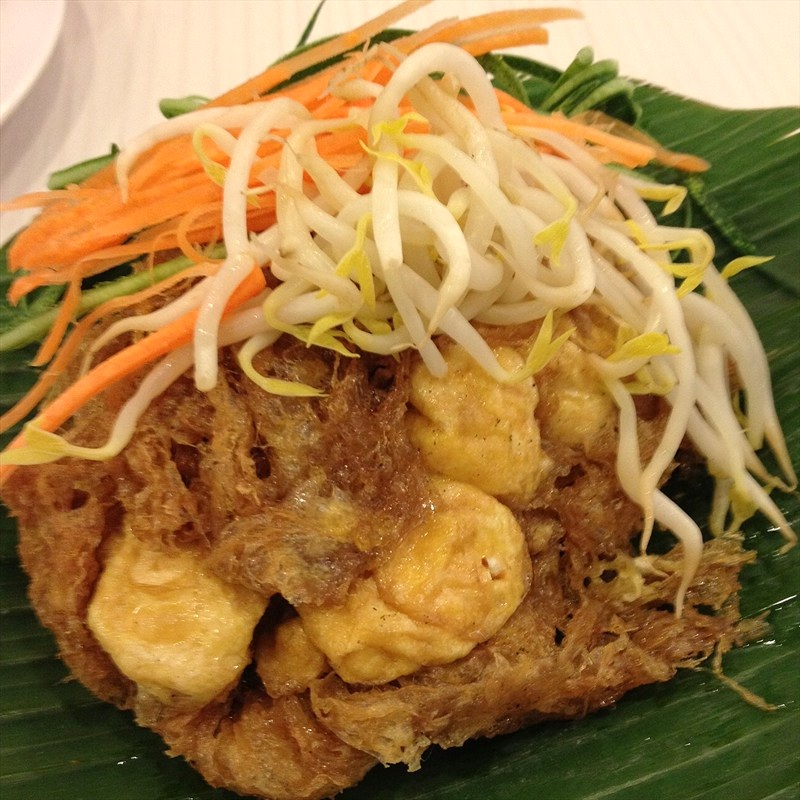Tahu Goreng: (67, 16, 713, 608)
